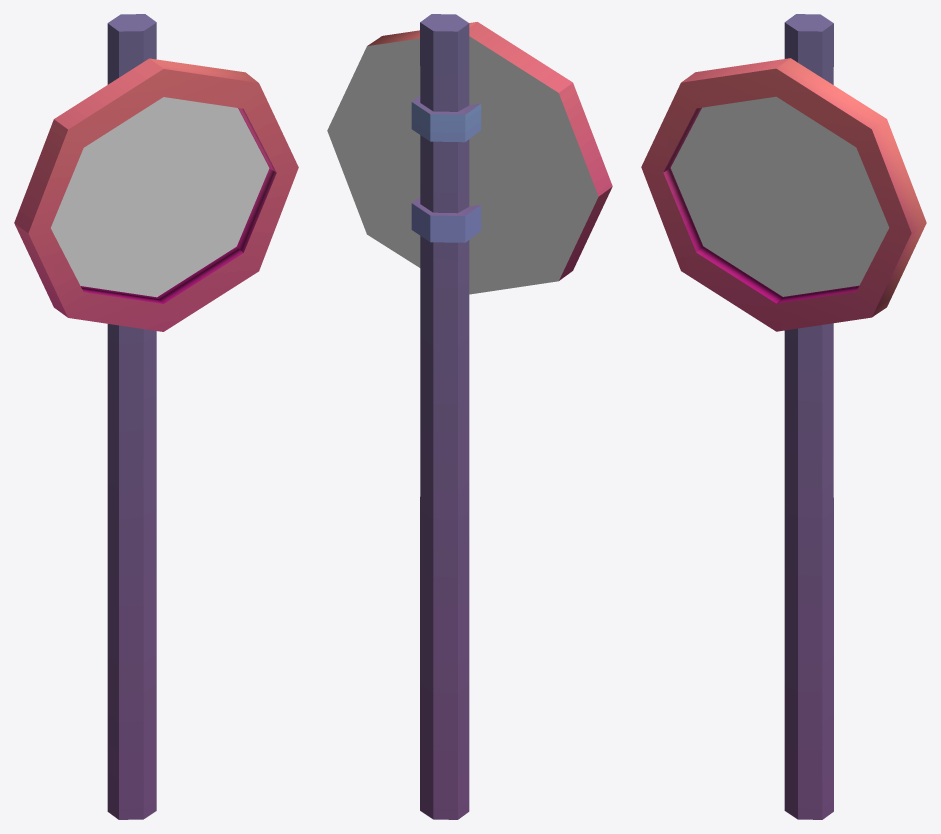
Rendered from signs1.fbx.
3 views of the same model, side by side, from view 1: azimuth 30°, elevation 25°; view 2: azimuth 150°, elevation 25°; view 3: azimuth 330°, elevation 25° (orthographic).
Parts seen in each view (by area): view 1: sign; view 2: sign; view 3: sign.
Part boxes in pixels (x1,y1,x2,y2): sign: [14, 14, 298, 819]; sign: [327, 14, 612, 819]; sign: [641, 14, 926, 819].
Size of the model in its own units: 431 by 1197 by 128.
2 materials, 1 textured.
